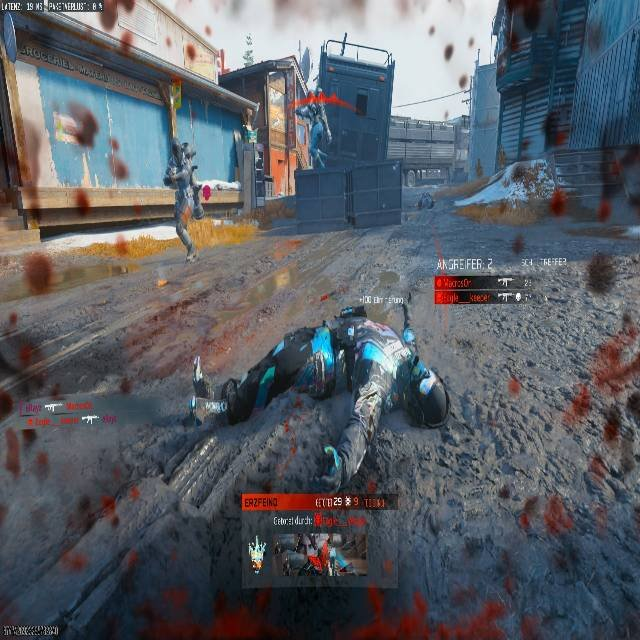head: (179, 141, 198, 164)
player: (162, 141, 211, 264), (299, 105, 331, 173), (415, 190, 434, 209)
